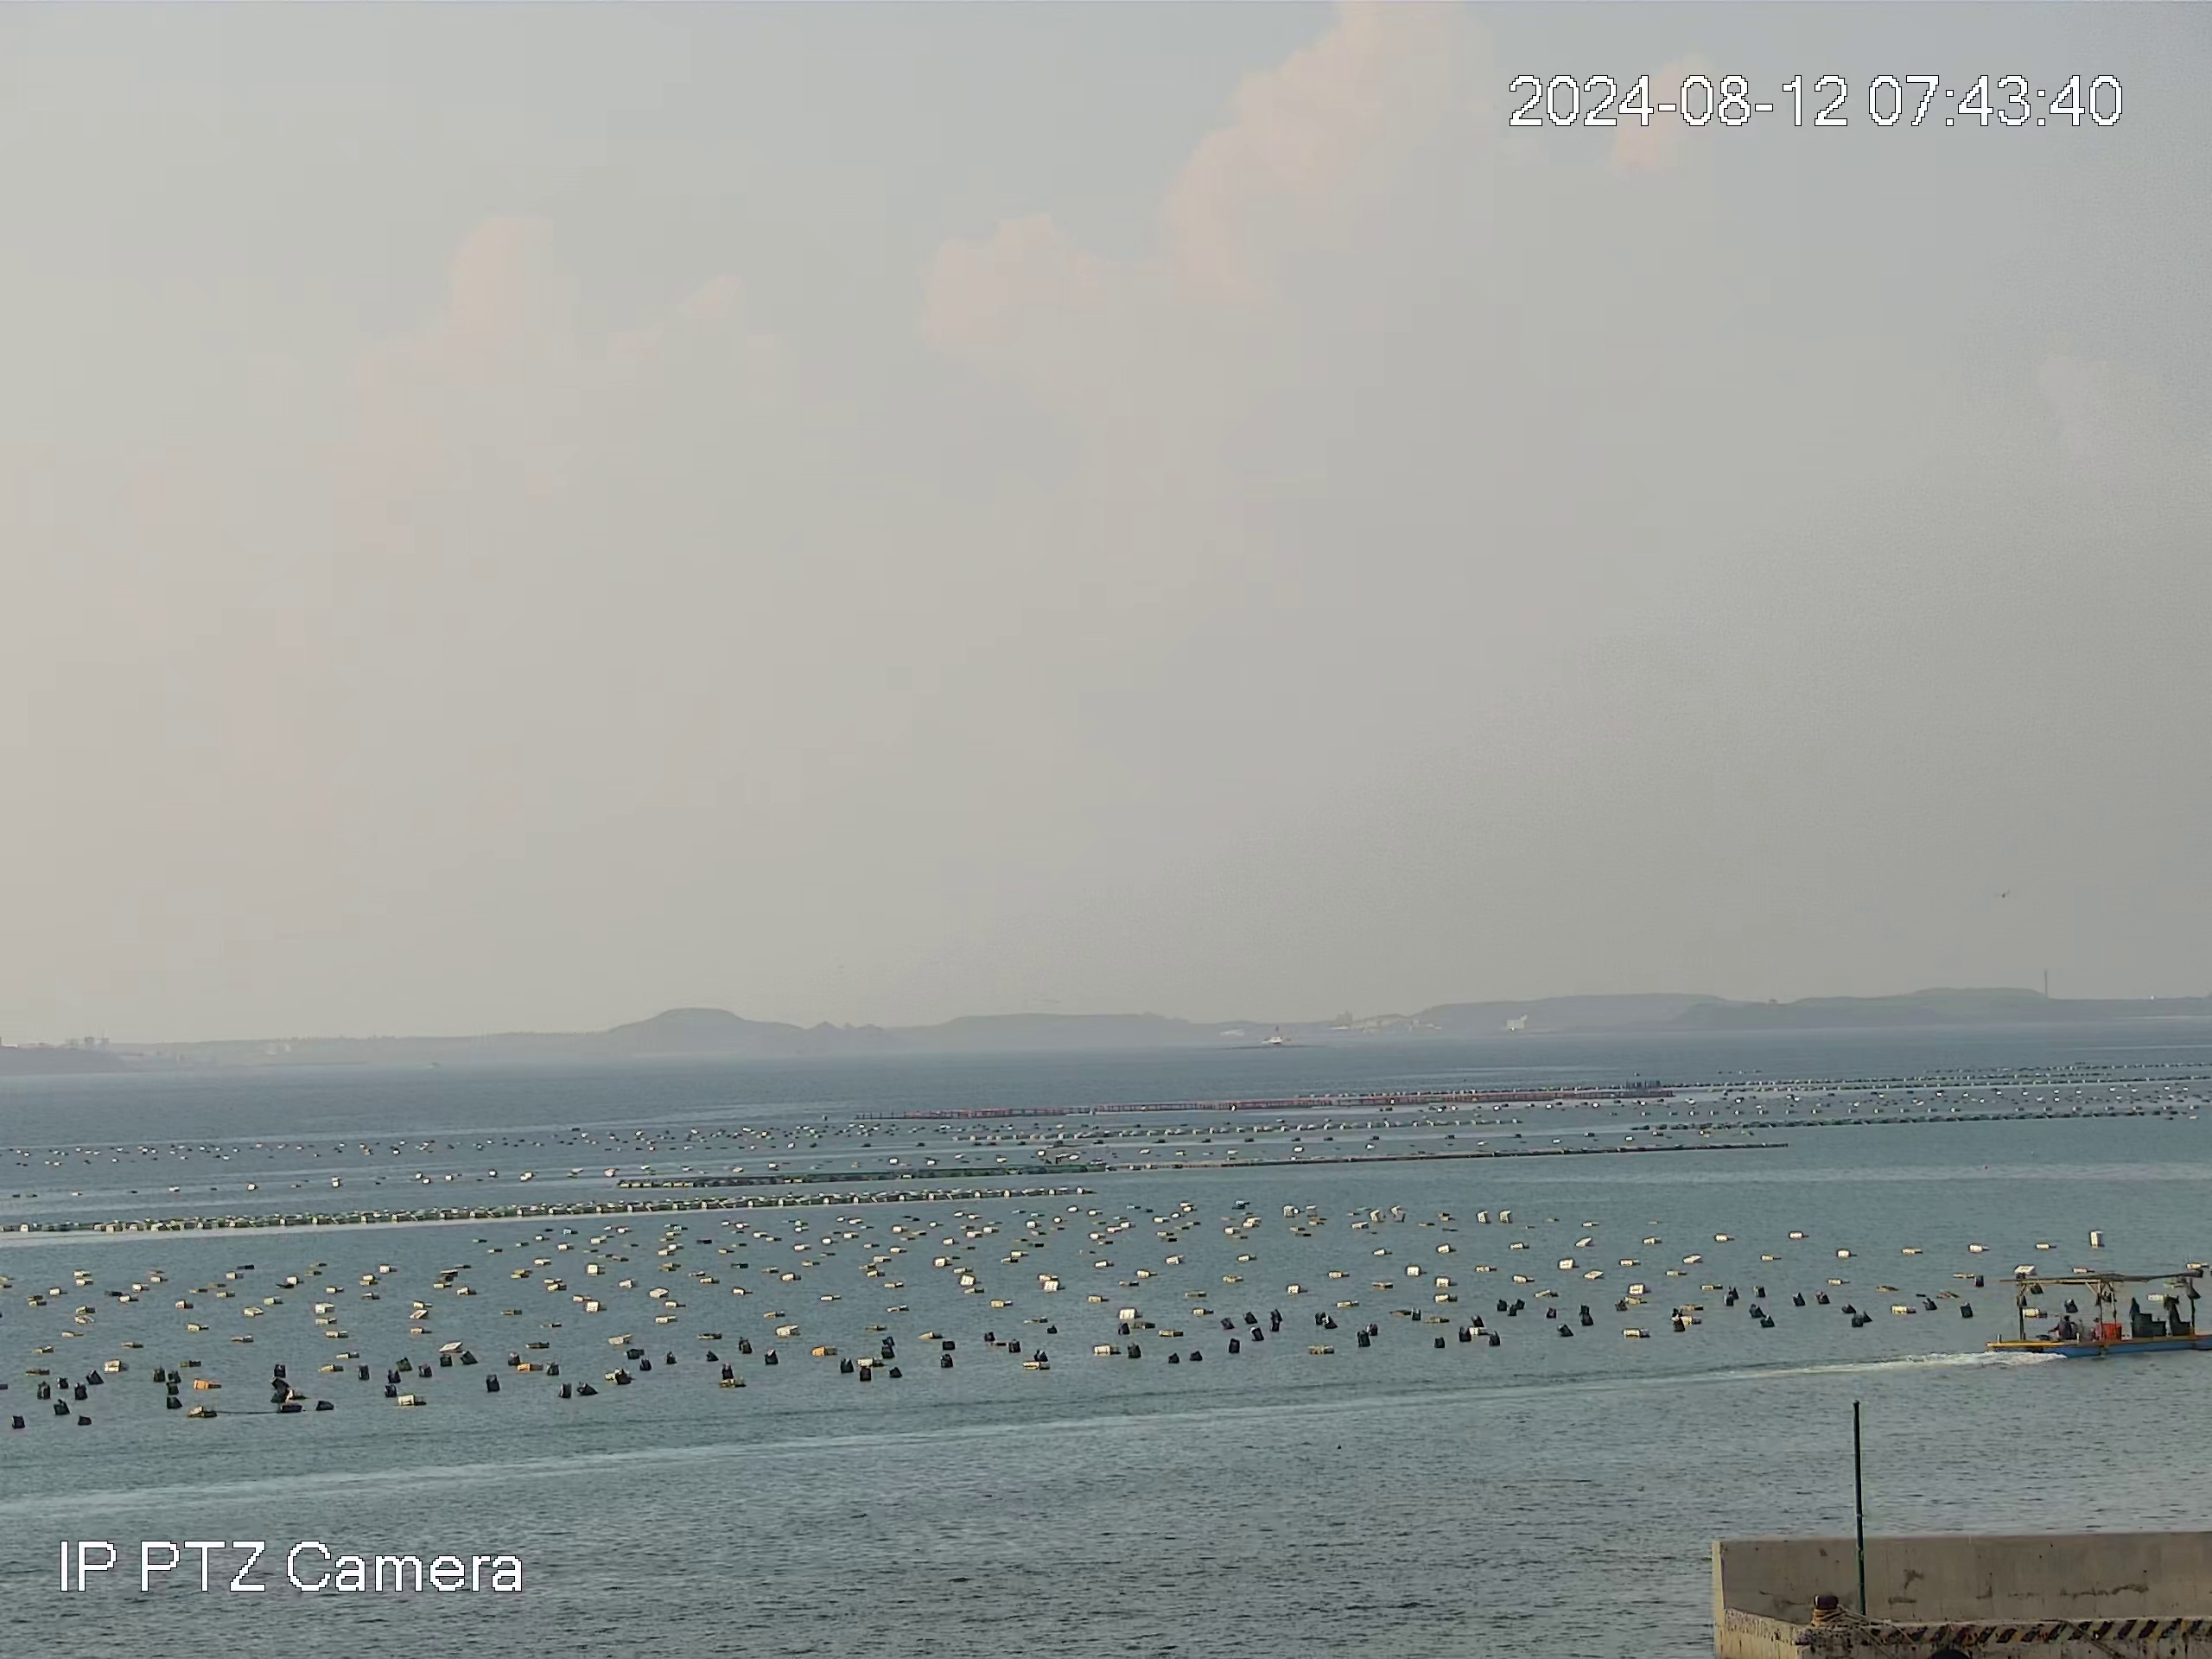boat: (1977, 1253, 2212, 1368)
